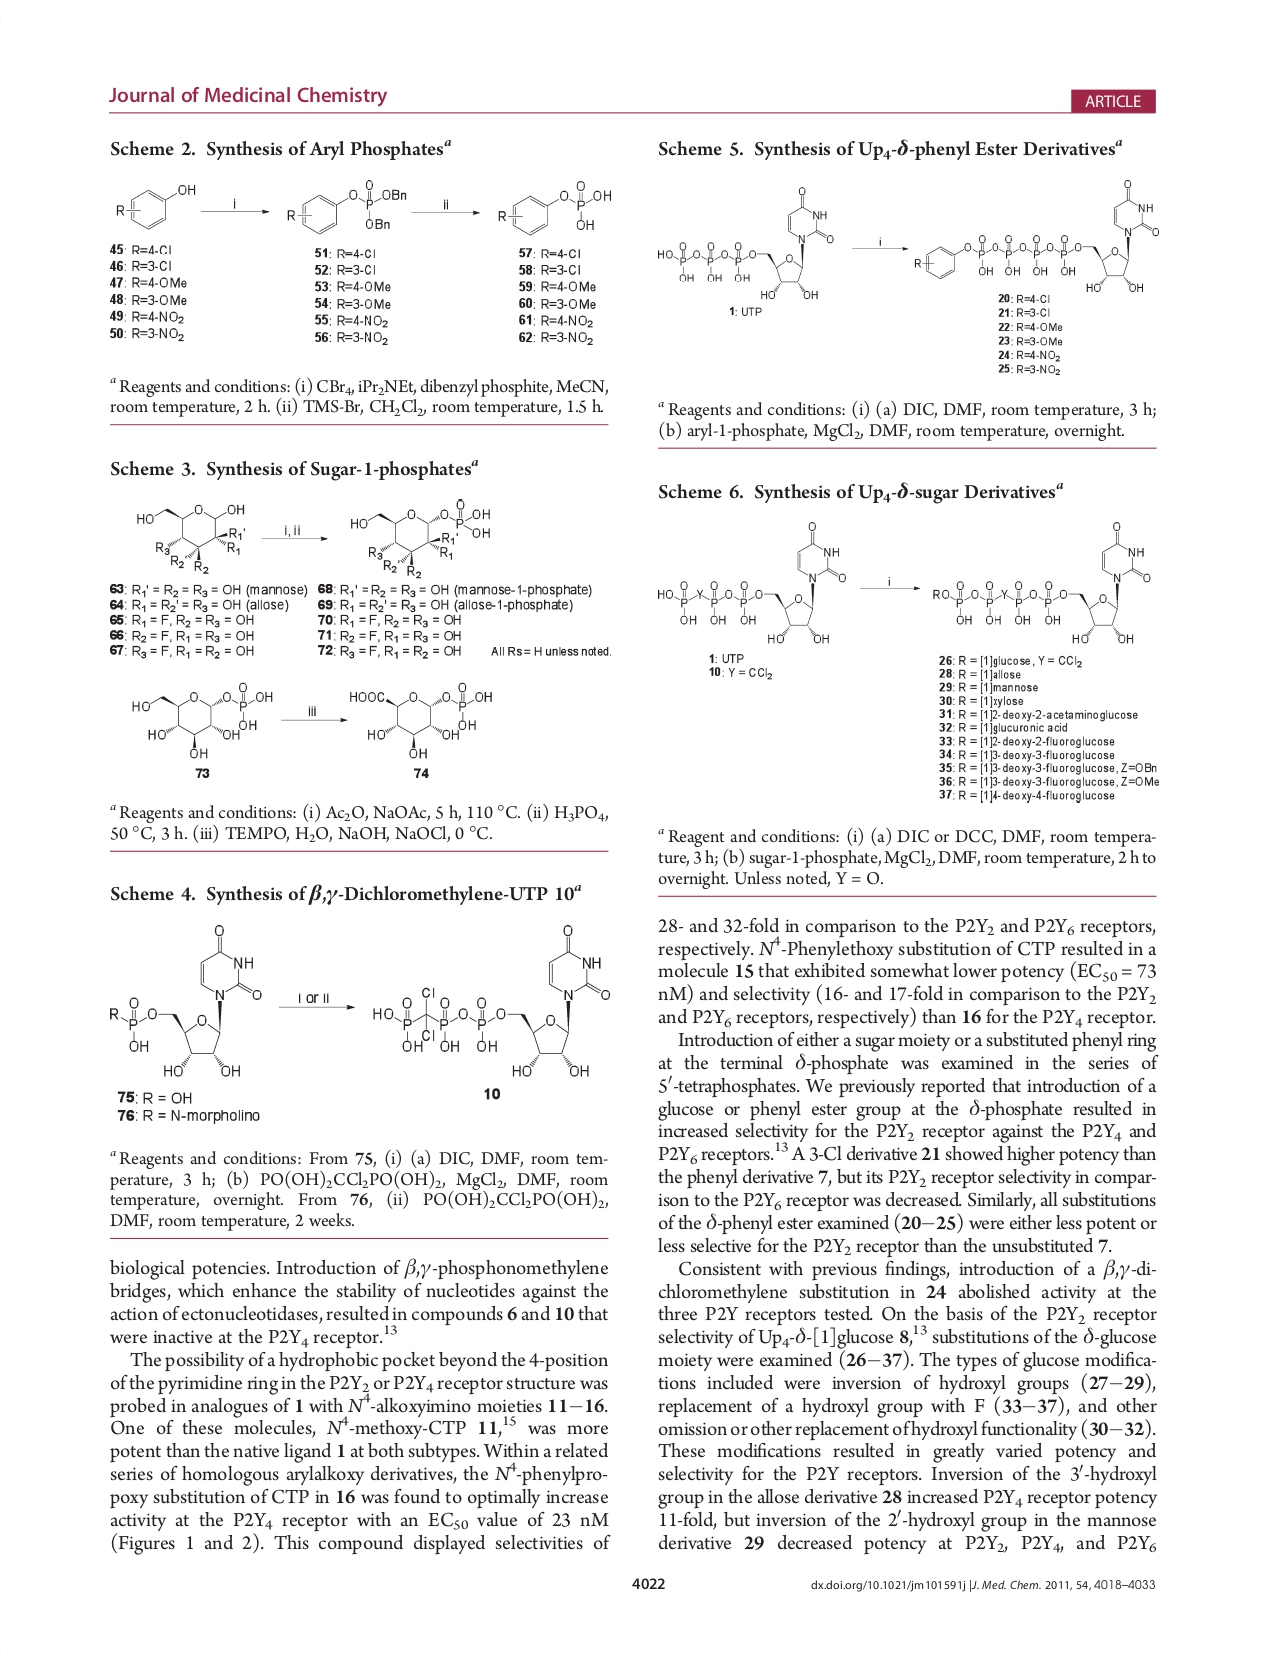exist_molecular: (368, 919, 610, 1080), (914, 176, 1164, 297), (930, 519, 1153, 648), (653, 519, 848, 648), (105, 922, 265, 1079), (656, 184, 836, 303), (342, 493, 496, 581), (129, 680, 277, 761), (348, 680, 493, 758), (133, 499, 253, 578), (493, 176, 618, 242), (283, 174, 410, 237), (106, 176, 197, 235)
